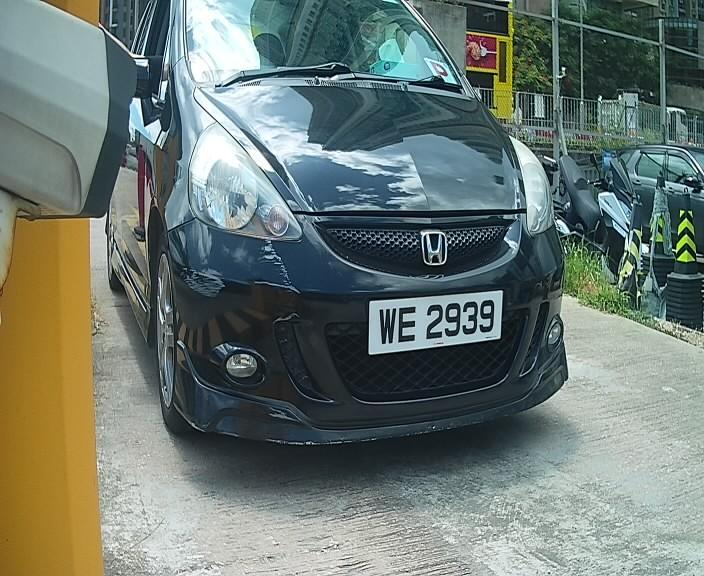Car: (95, 29, 569, 471)
License Plate: (356, 283, 503, 361)
